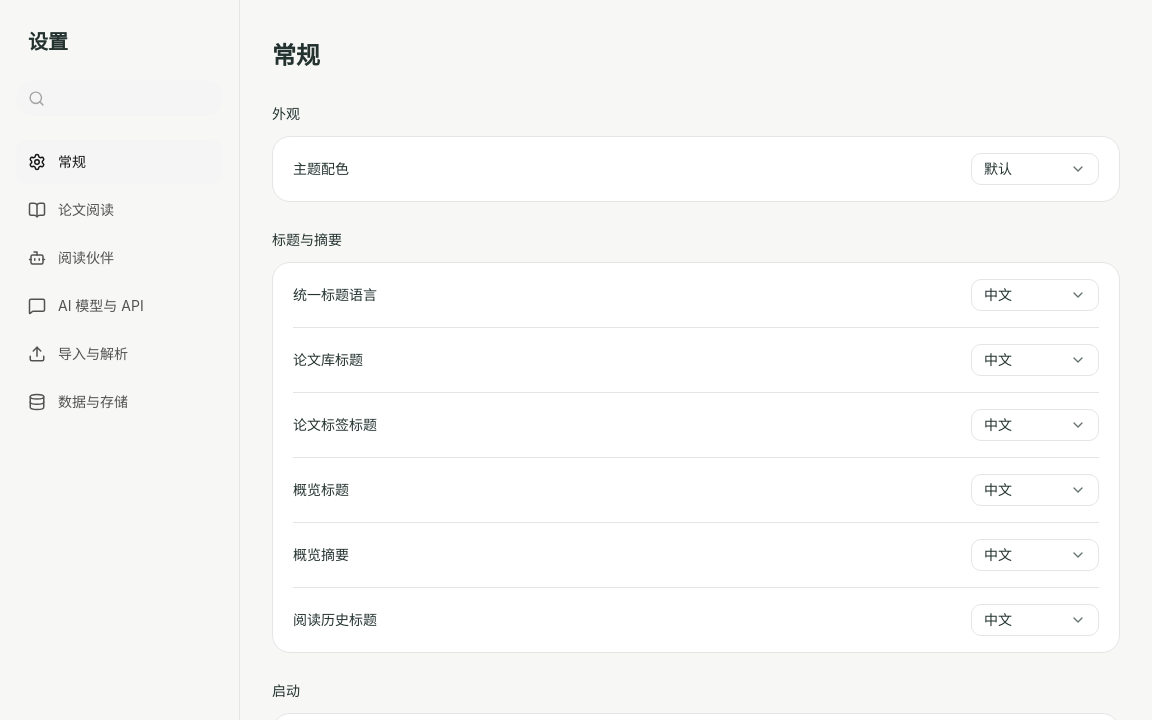
Test: shows only three language choices using the library select
Click the dropdown named "统一标题语言" at [1035, 295], box [971,279,1099,311]
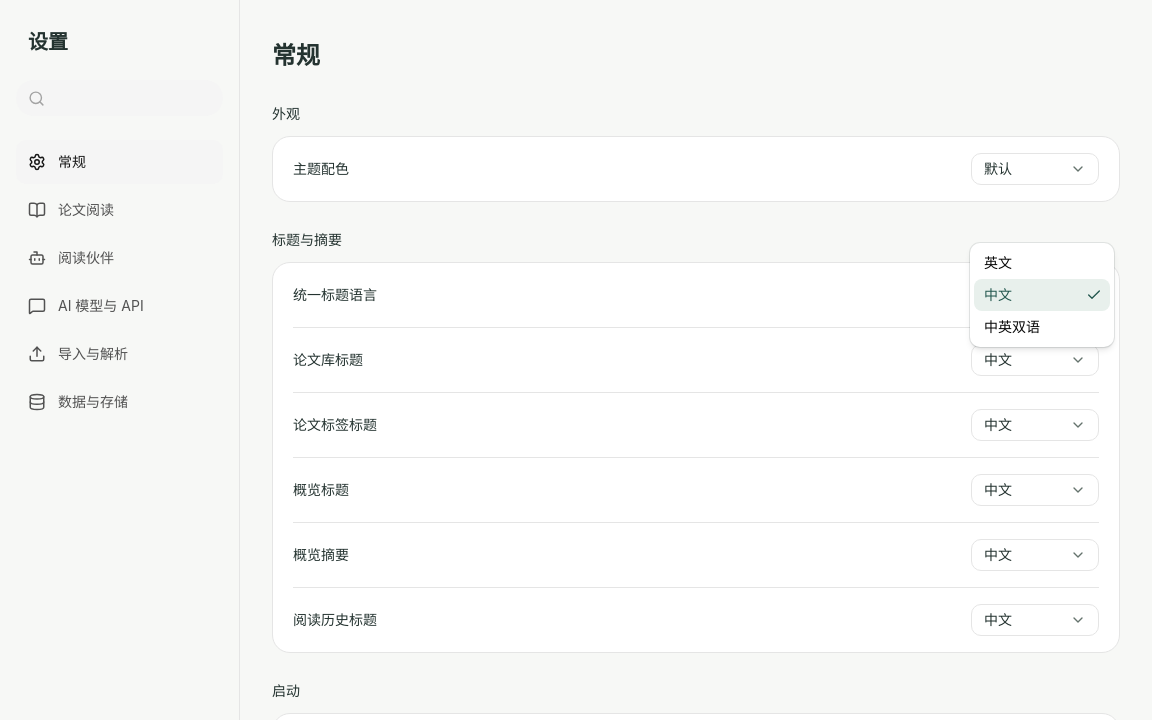
Expected: the option "英文" is shown, [984,254,1012,271]
Expected: the options read "英文", "中文", "中英双语", in this order, [984,254,1012,271]; [974,279,1110,311]; [984,318,1040,335]
